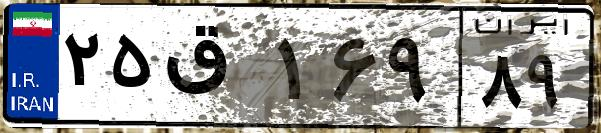1: (270, 28, 330, 110)
2: (57, 26, 110, 100)
5: (110, 28, 158, 98)
6: (330, 28, 385, 110)
8: (475, 38, 525, 113)
9: (385, 28, 445, 110), (525, 38, 570, 115)
ق: (158, 20, 270, 120)
